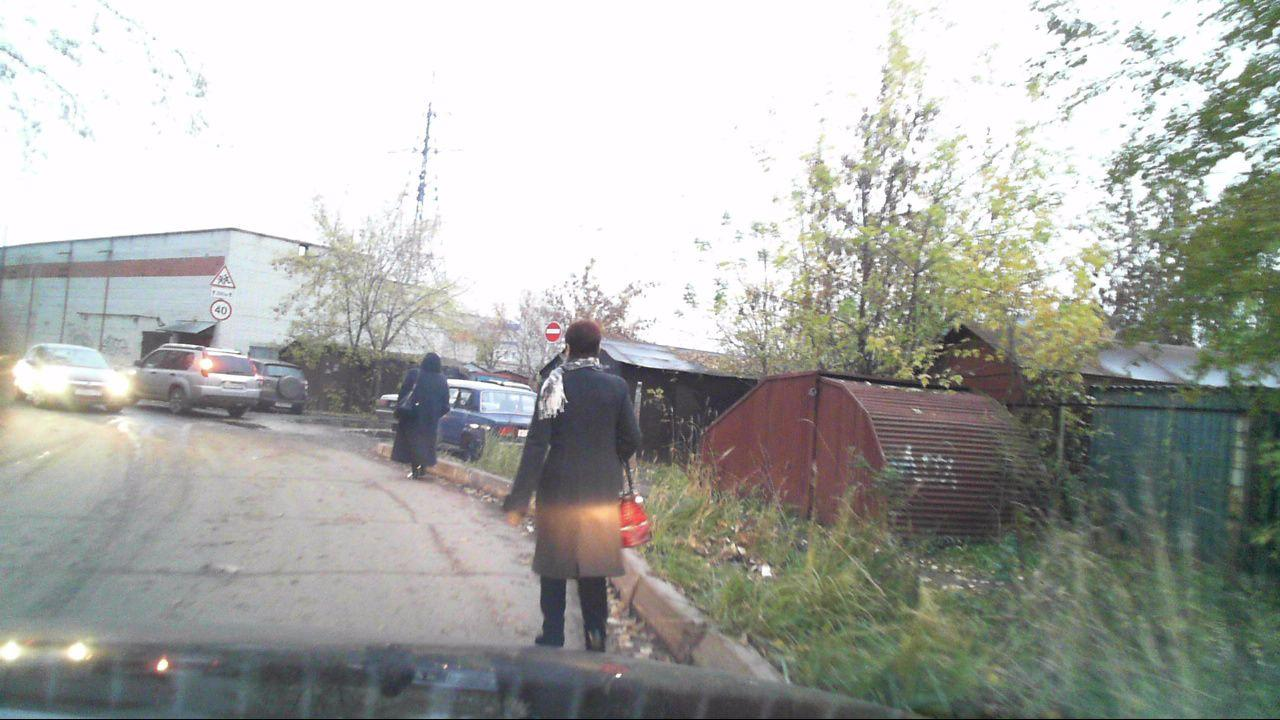road_sign: (208, 264, 237, 288), (209, 299, 233, 322), (545, 322, 560, 342)
